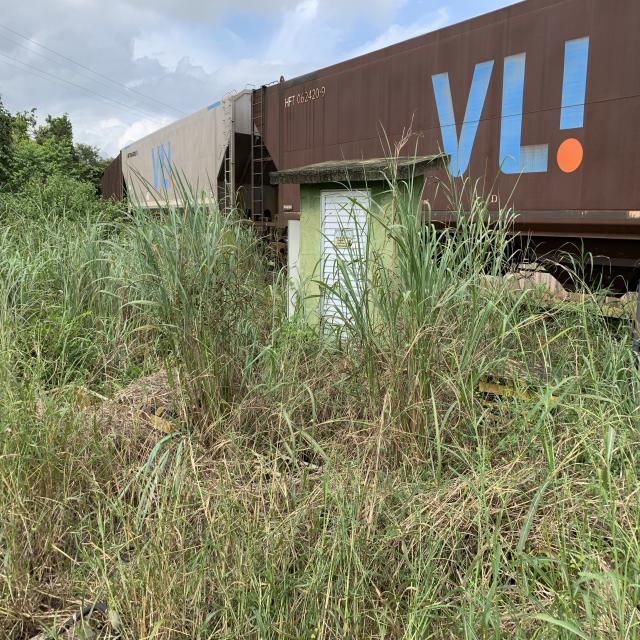hopper: (249, 0, 640, 261), (116, 80, 252, 255)
